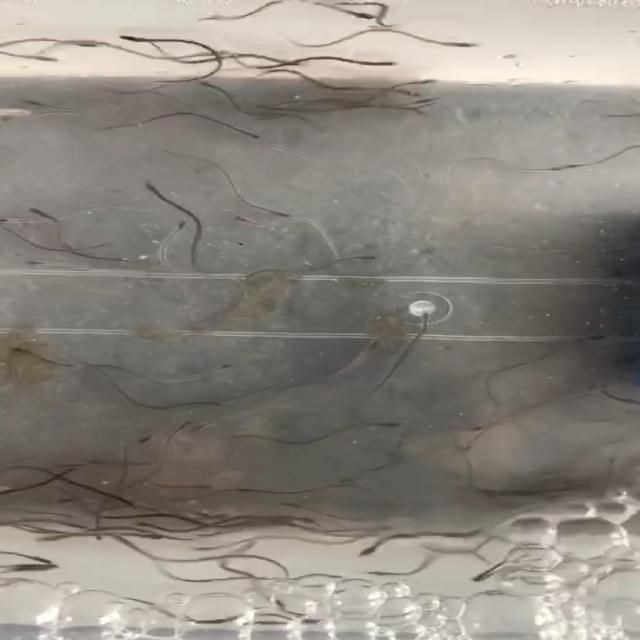active_glass_eel: (426, 28, 498, 57), (344, 51, 408, 81), (346, 5, 401, 30), (129, 175, 176, 200), (234, 126, 282, 147), (215, 531, 263, 552), (2, 98, 59, 114), (282, 511, 330, 530), (325, 470, 372, 489), (62, 36, 116, 52), (560, 329, 614, 345), (207, 612, 264, 627), (408, 74, 458, 91), (25, 530, 70, 548), (342, 542, 389, 558), (400, 309, 444, 326), (376, 416, 413, 436), (114, 30, 163, 45), (133, 526, 168, 547), (206, 360, 244, 378), (132, 429, 167, 448), (21, 205, 60, 222), (172, 480, 218, 494), (185, 72, 217, 91), (1, 342, 36, 359), (352, 336, 389, 352), (19, 561, 56, 577), (270, 204, 298, 225), (197, 395, 239, 409), (351, 250, 385, 267), (190, 421, 230, 435), (466, 568, 497, 586), (170, 416, 204, 432), (286, 612, 322, 627), (361, 568, 404, 580), (20, 254, 51, 270), (129, 515, 159, 531), (388, 86, 422, 100), (47, 495, 80, 509), (176, 216, 200, 235), (232, 214, 260, 228), (27, 554, 60, 564), (191, 542, 223, 552), (0, 214, 20, 229), (567, 157, 579, 177), (553, 163, 570, 177), (462, 427, 485, 436)
